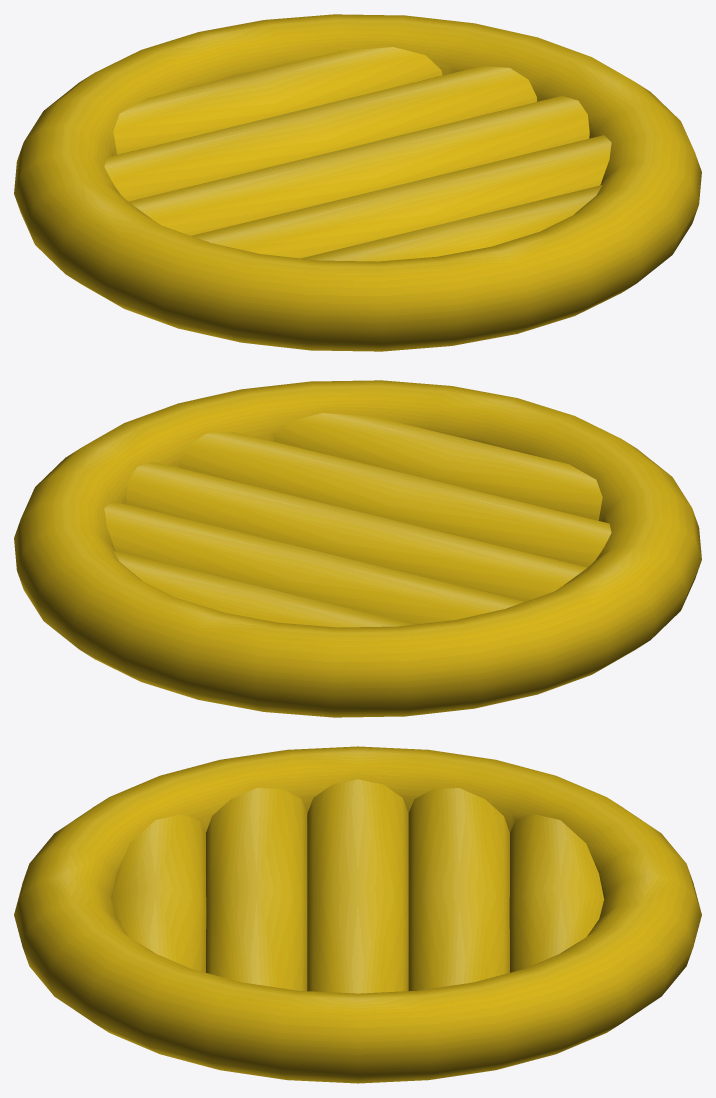
File: tube_round_yellow.fbx
3 views of the same model, one above another, from view 1: azimuth 30°, elevation 25°; view 2: azimuth 150°, elevation 25°; view 3: azimuth 270°, elevation 25° (orthographic).
Parts seen in each view (by area): view 1: tube_round_yellow; view 2: tube_round_yellow; view 3: tube_round_yellow.
Part boxes in pixels (box(x1,y1,x2,y2)): tube_round_yellow: box(14, 14, 701, 351); tube_round_yellow: box(14, 380, 701, 717); tube_round_yellow: box(14, 746, 701, 1083).
Size of the model in its own units: 80 by 10.09 by 80.
